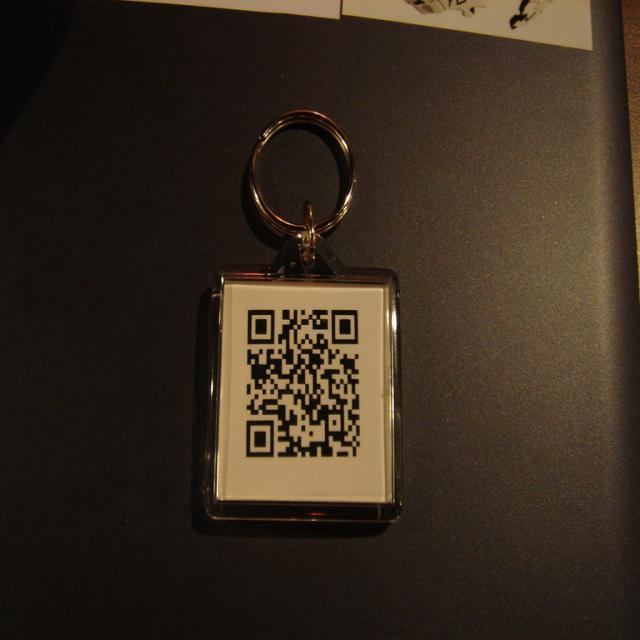qrcode: (247, 311, 361, 458)
